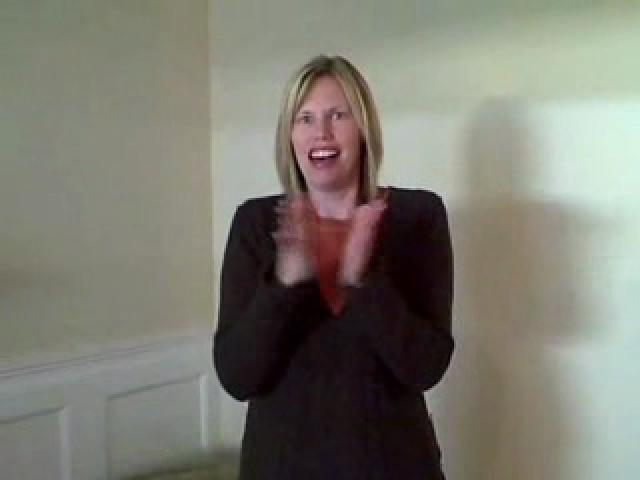F: (192, 49, 470, 480)
